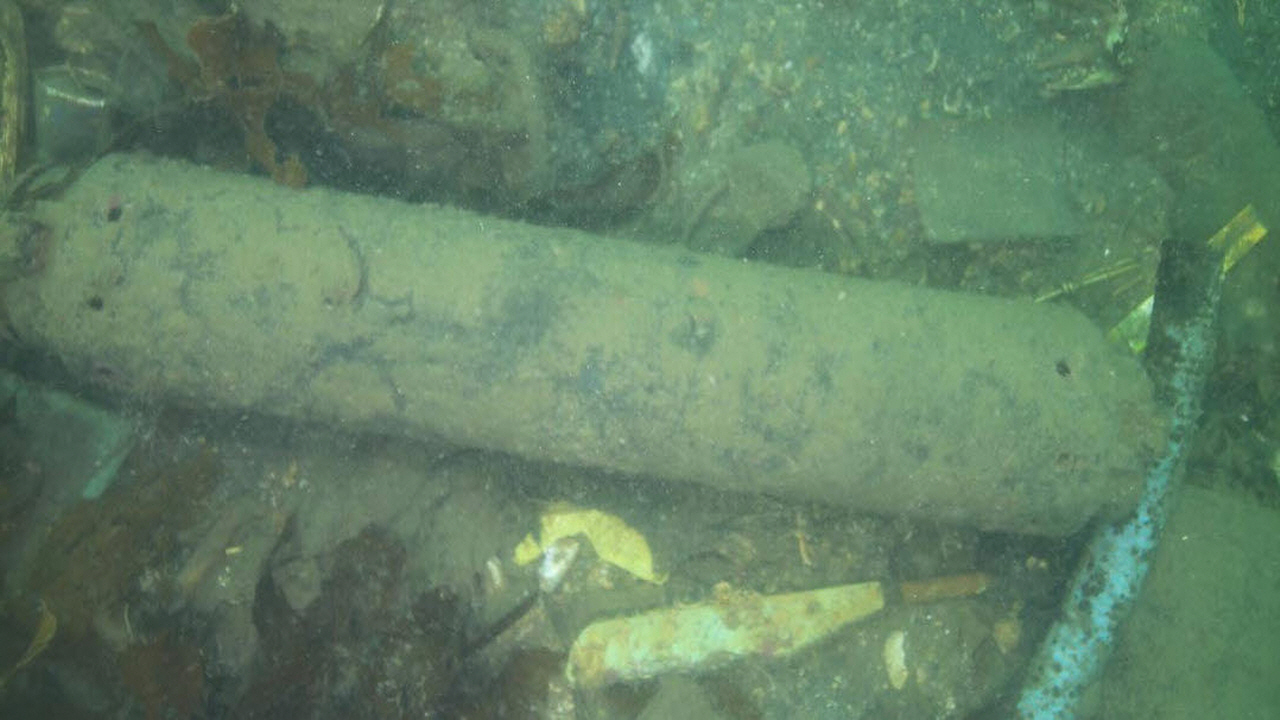eel fish trap: (31, 150, 1155, 535)
